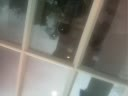window: (10, 39, 67, 96), (76, 60, 100, 71)
